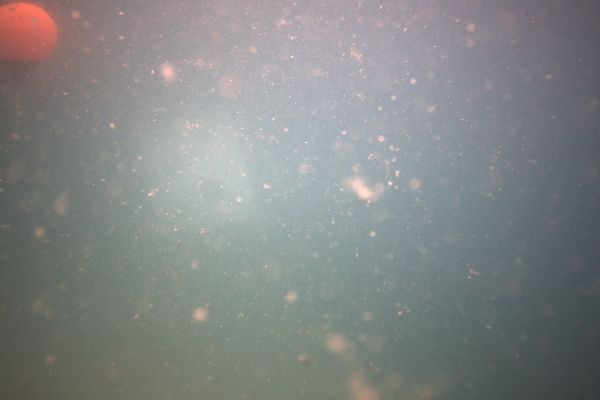buoy: (0, 2, 58, 86)
